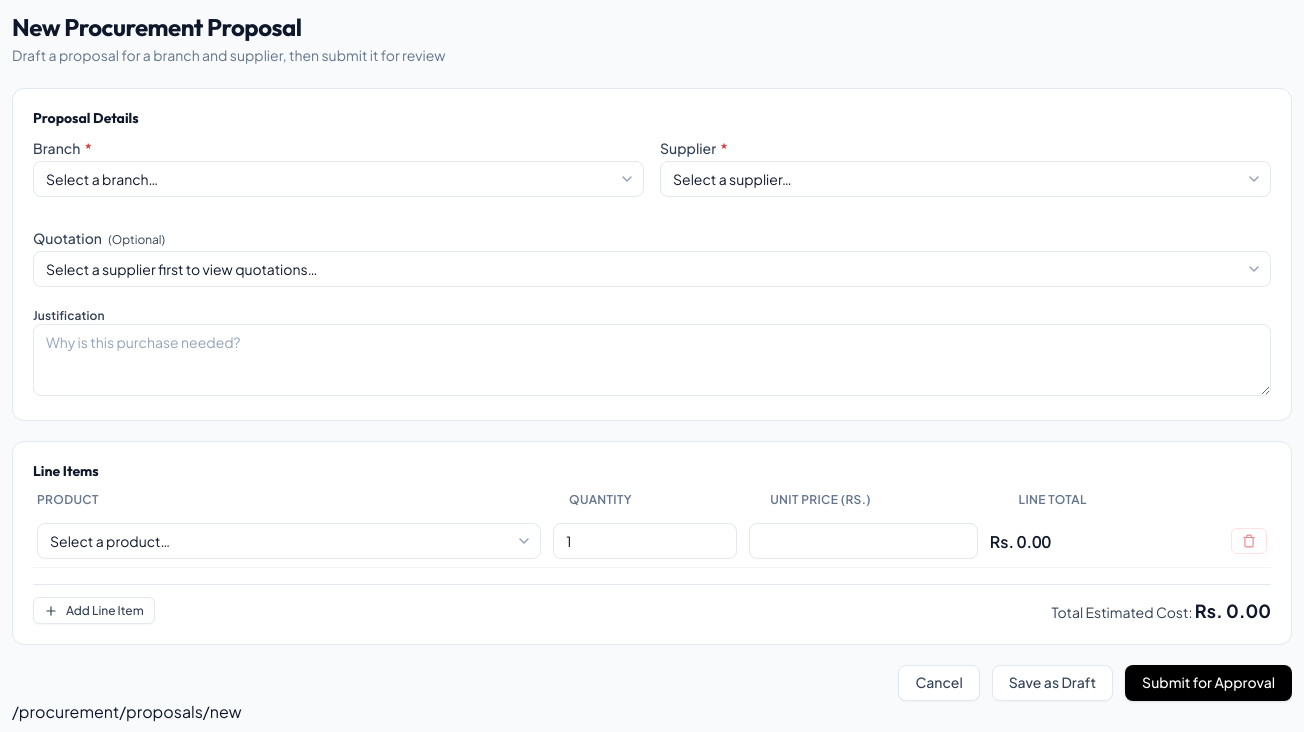
NewProposalForm validation › shows the server reason when the proposal is over budget (422)
Select "Colombo Central (COL-01)" in the dropdown labelled "Branch *" at x=338, y=179, box [33, 161, 644, 197]
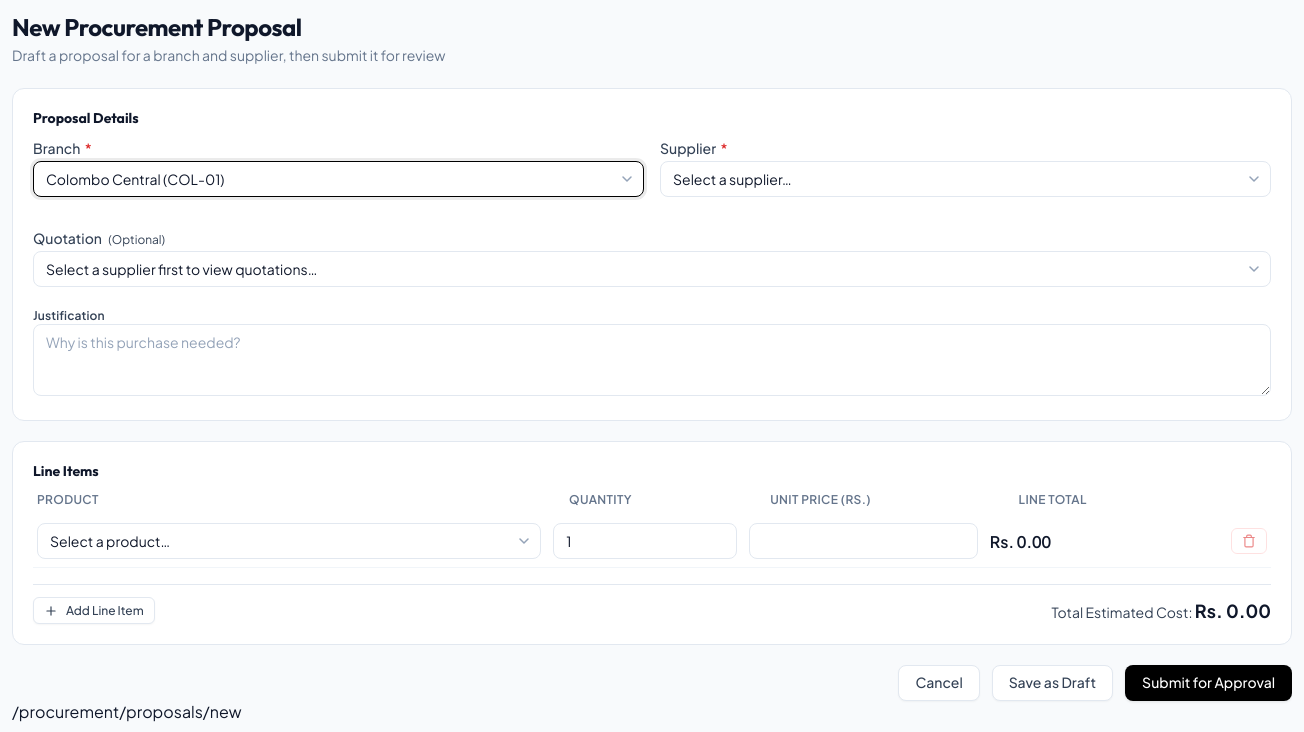
Select "Lanka Stationery Distributors" in the dropdown labelled "Supplier *" at x=966, y=179, box [660, 161, 1271, 197]
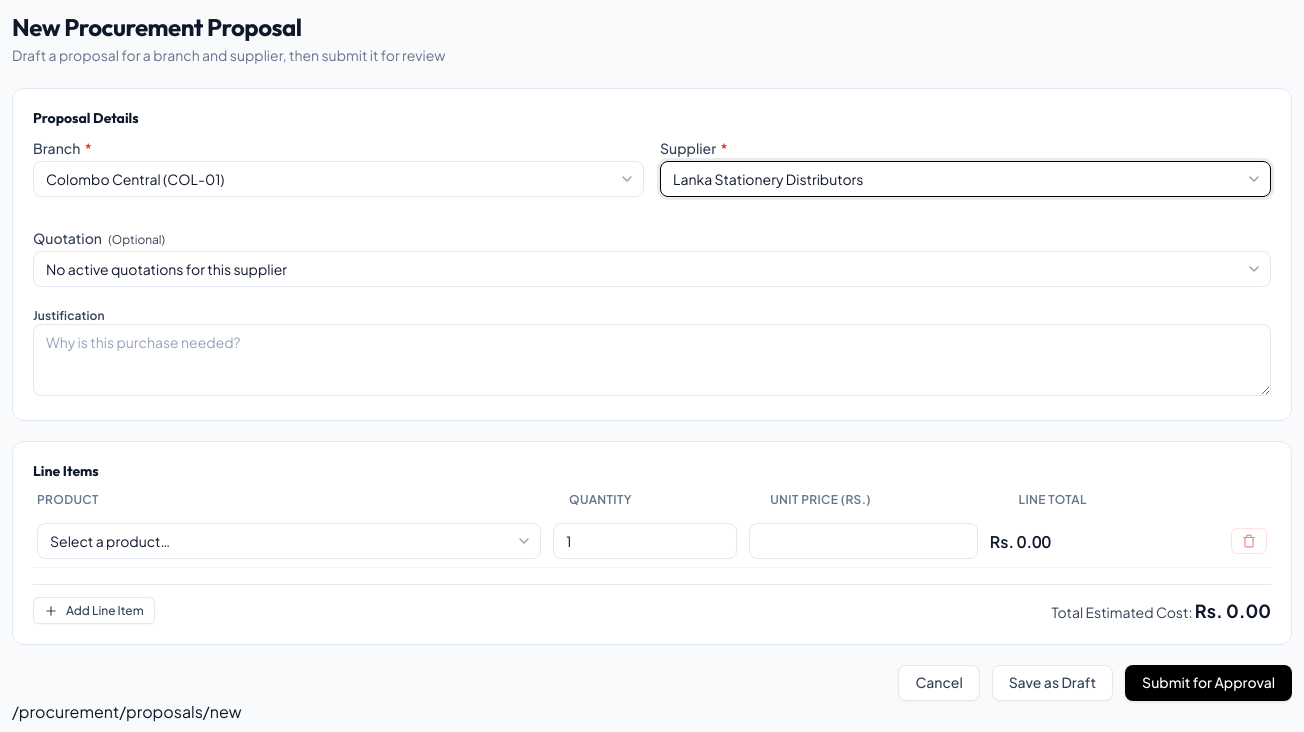
Select "Copy Paper A4 (PPR-A4)" in the dropdown named "Product" at x=289, y=541, box [37, 523, 541, 559]
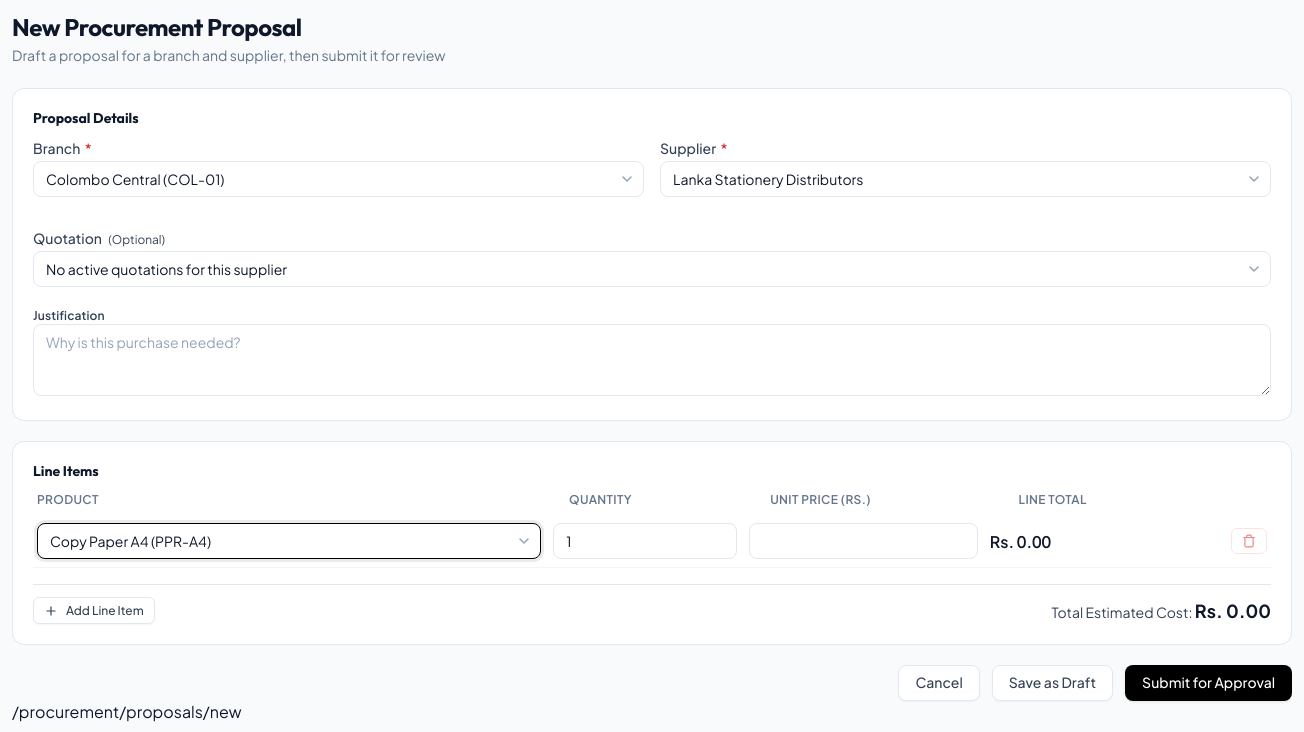
Replace the text in the 1st number field with "12" at x=645, y=541, box [553, 523, 737, 559]
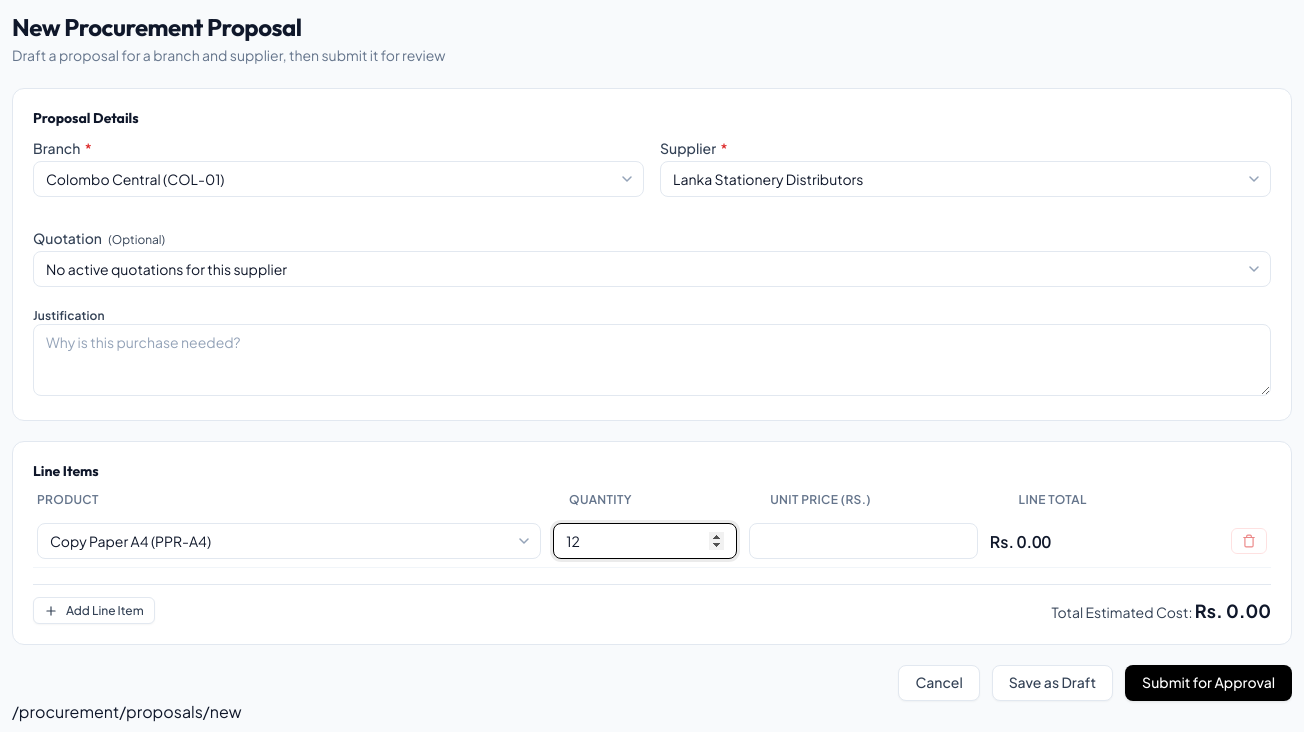
Type "499.5" into the 2nd number field at x=863, y=541, box [749, 523, 978, 559]
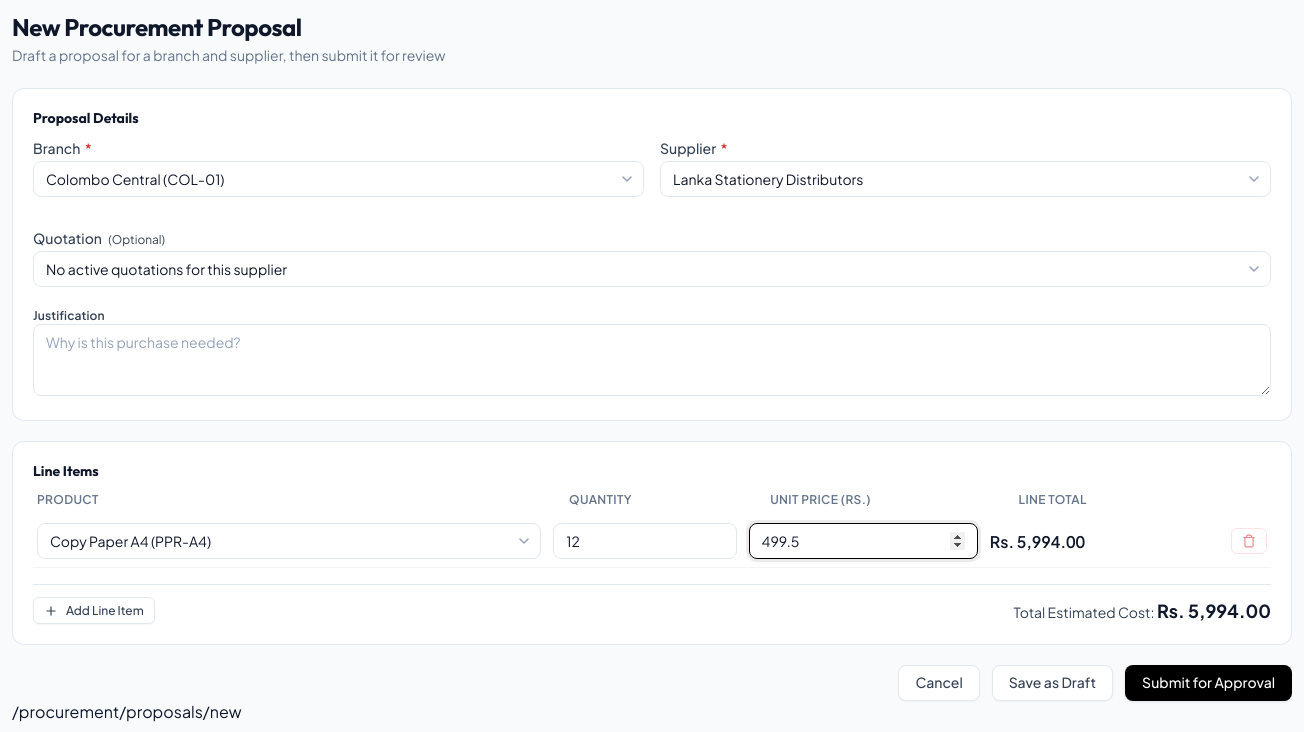
Click the button "Submit for Approval" at x=1209, y=683, box [1125, 665, 1292, 700]
(page scrolled)
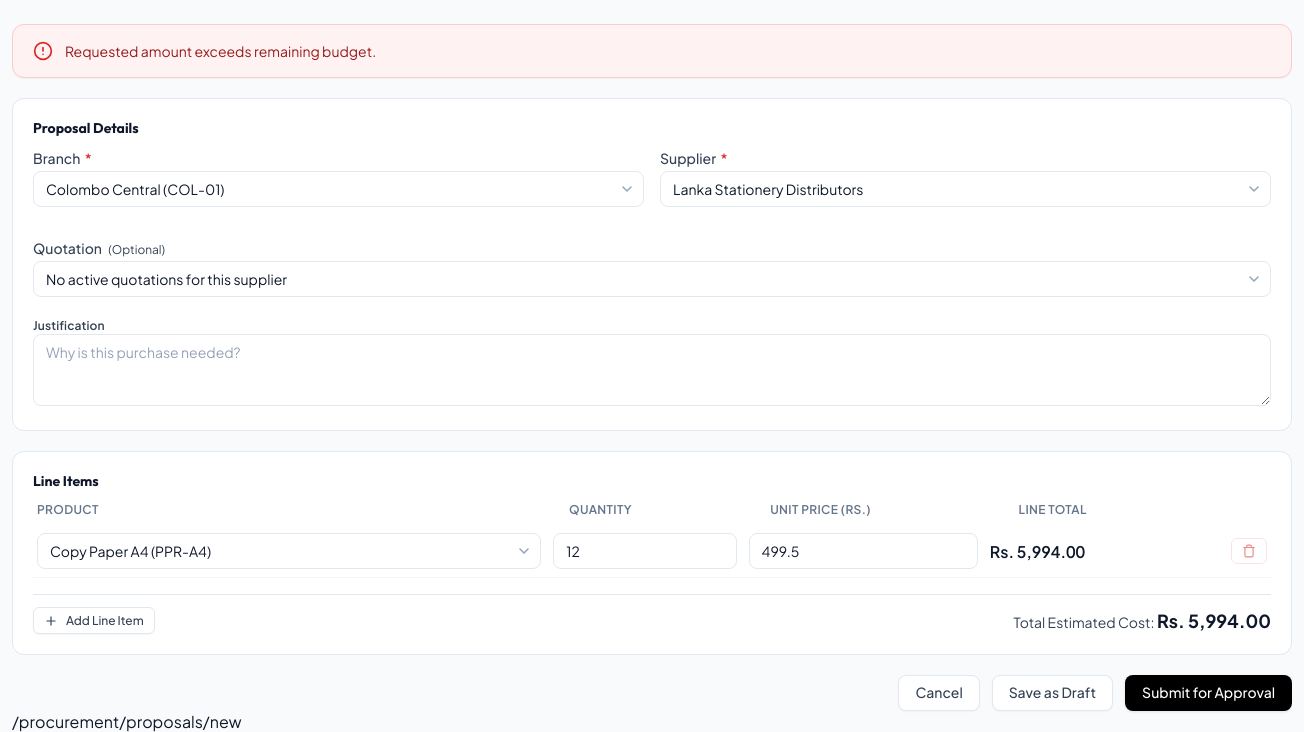
Expected: the text with test id "location" reads "/procurement/proposals/new", [12, 710, 242, 731]
Result: the text "Requested amount exceeds remaining budget." is shown at [65, 42, 376, 60]
